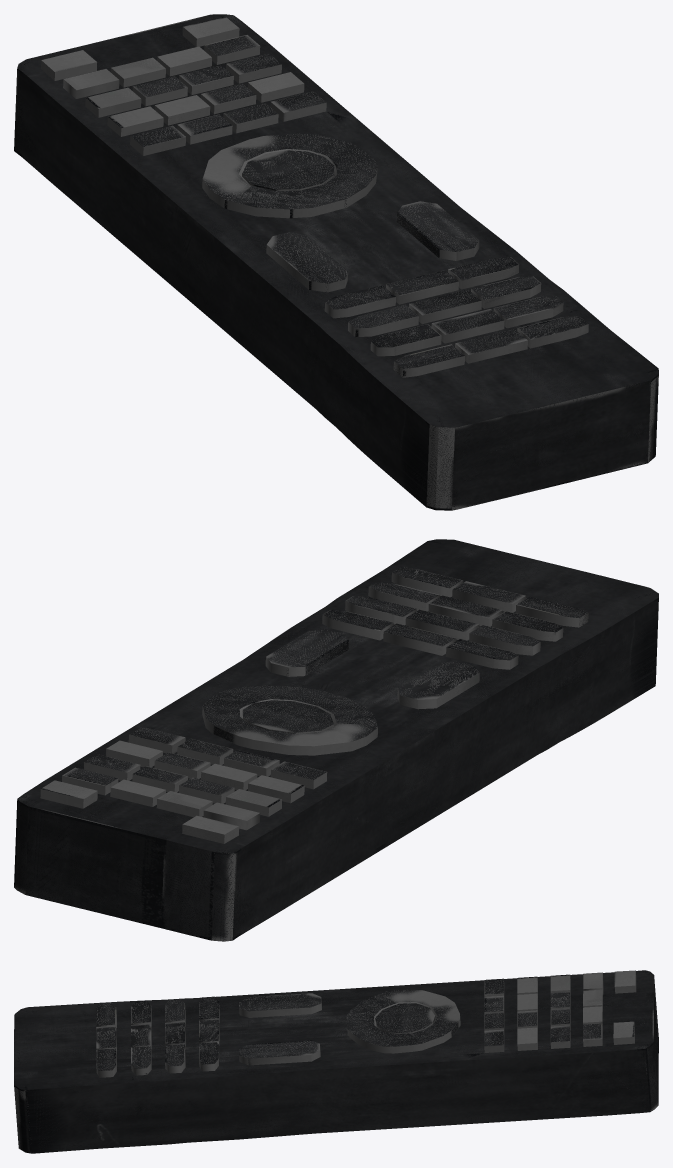
File: LV_TVRemote.fbx
The picture shows the model from 3 angles, top to bottom: view 1: azimuth 30°, elevation 25°; view 2: azimuth 150°, elevation 25°; view 3: azimuth 270°, elevation 25°; orthographic projection. The views are drawn at different scales.
Parts seen in each view (by area): view 1: TVRemote.001; view 2: TVRemote.001; view 3: TVRemote.001.
Boxes of the visible parts, box(x1,y1,x2,y2) form: TVRemote.001: box(14, 14, 658, 510); TVRemote.001: box(14, 539, 658, 941); TVRemote.001: box(14, 970, 658, 1153).
Bounding box in the file's own units: 10.45 × 6.37 × 34.29.
Materials: 1 (1 with a texture image).
